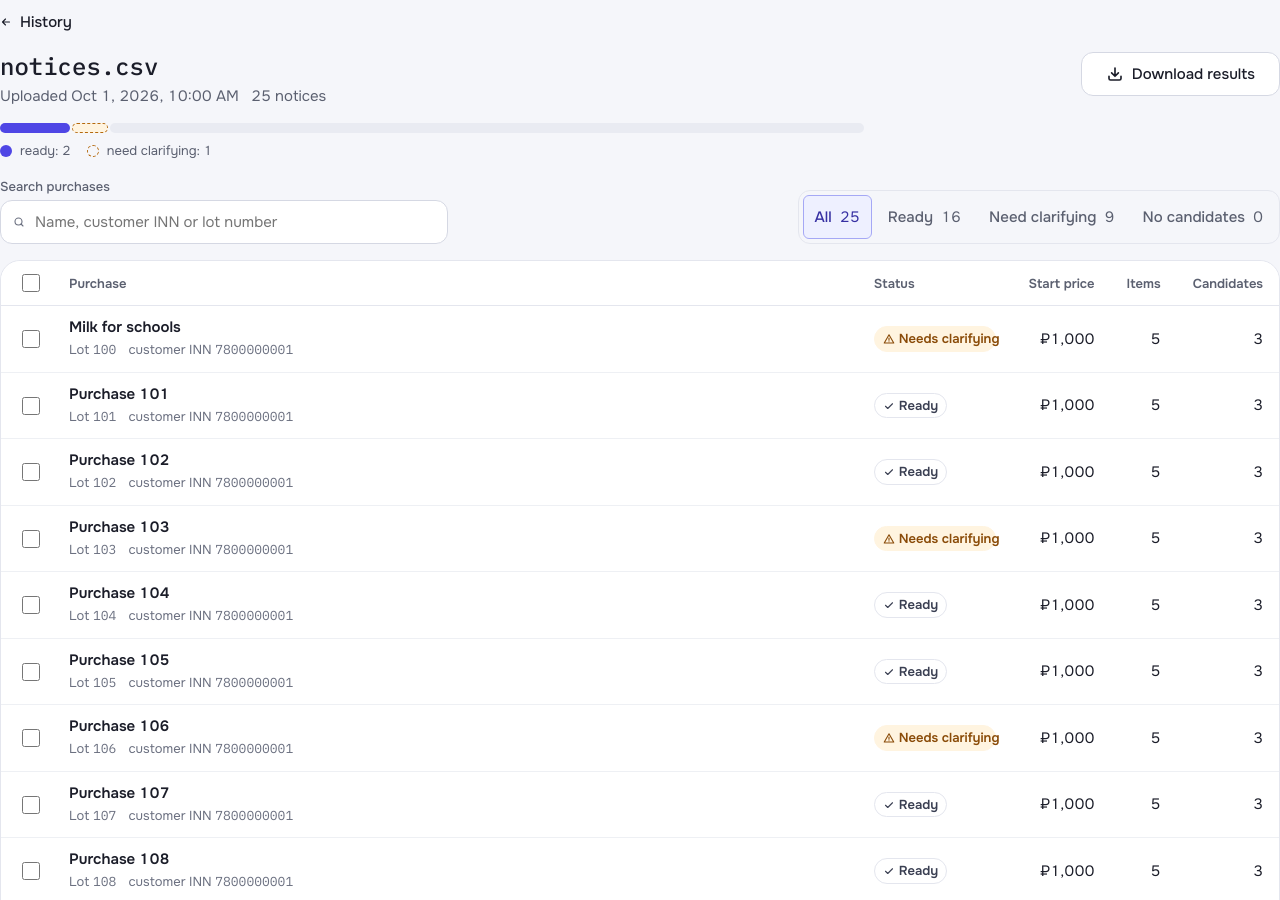
Test: the purchases of a file › clears the selection on request and opens the full export from the header
Click the checkbox named "Select lot 100" at (31, 339), box [22,330,40,348]
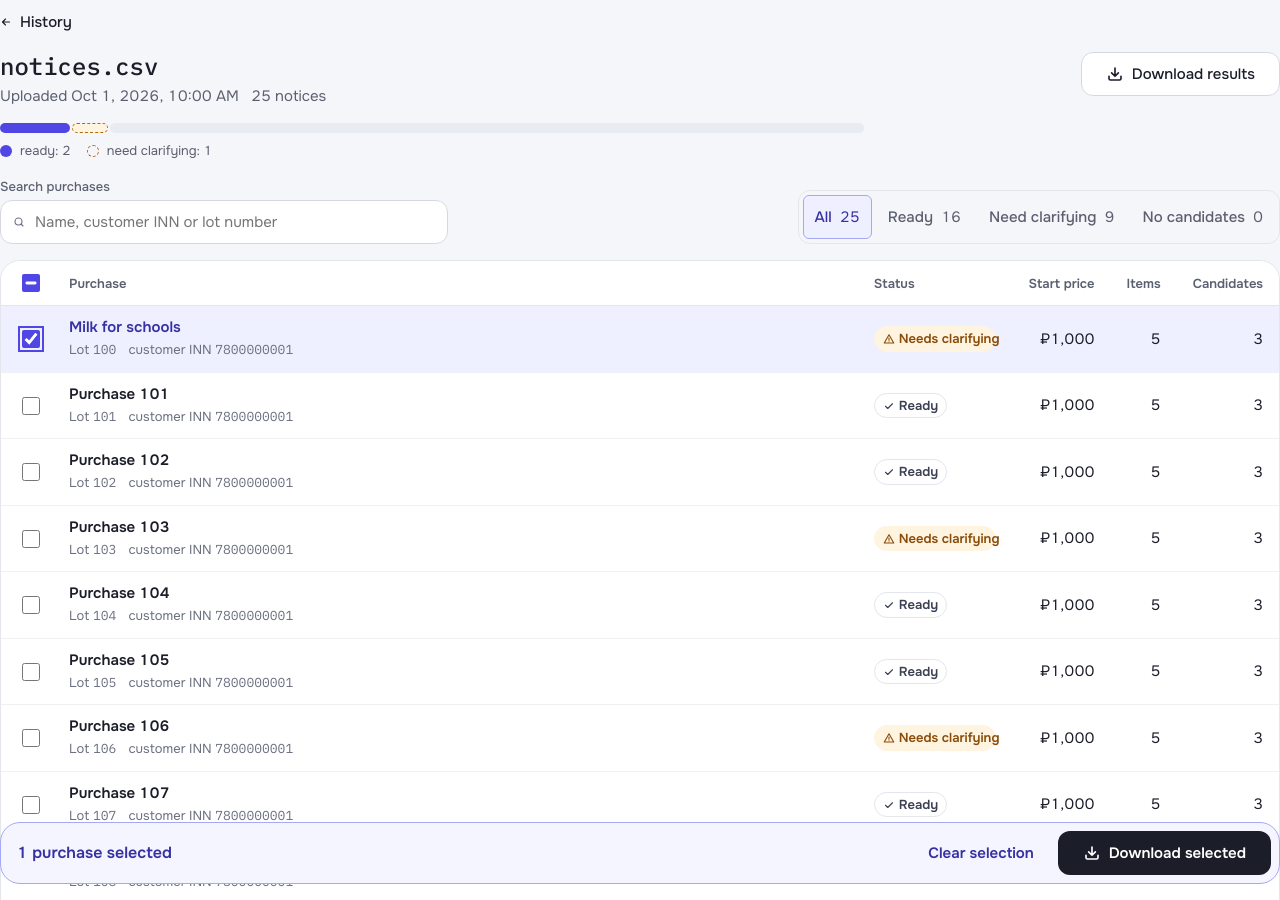
Click the button "Clear selection" at (981, 853), box [916,831,1046,875]
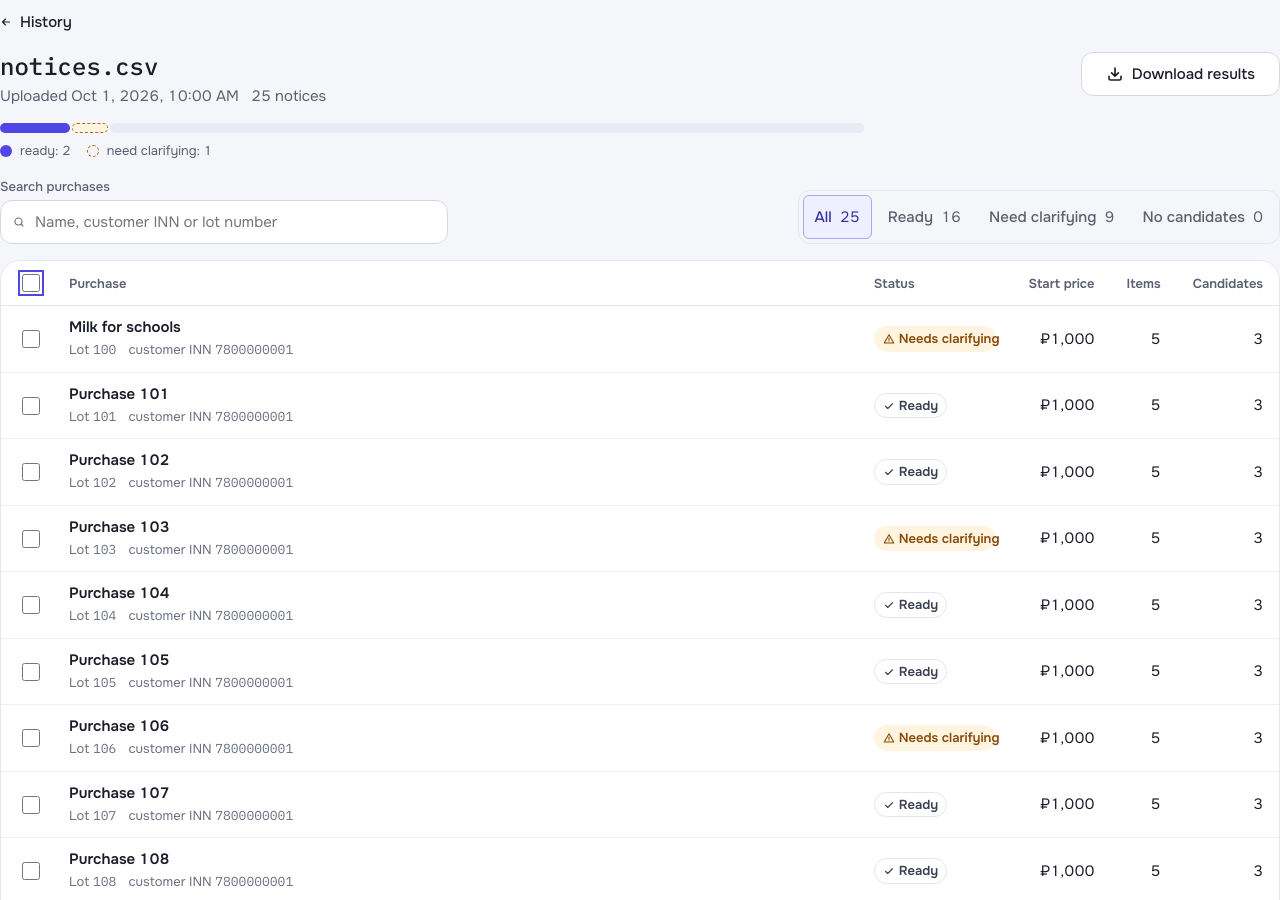
Click the button "Download results" at (1180, 74), box [1081,52,1279,96]
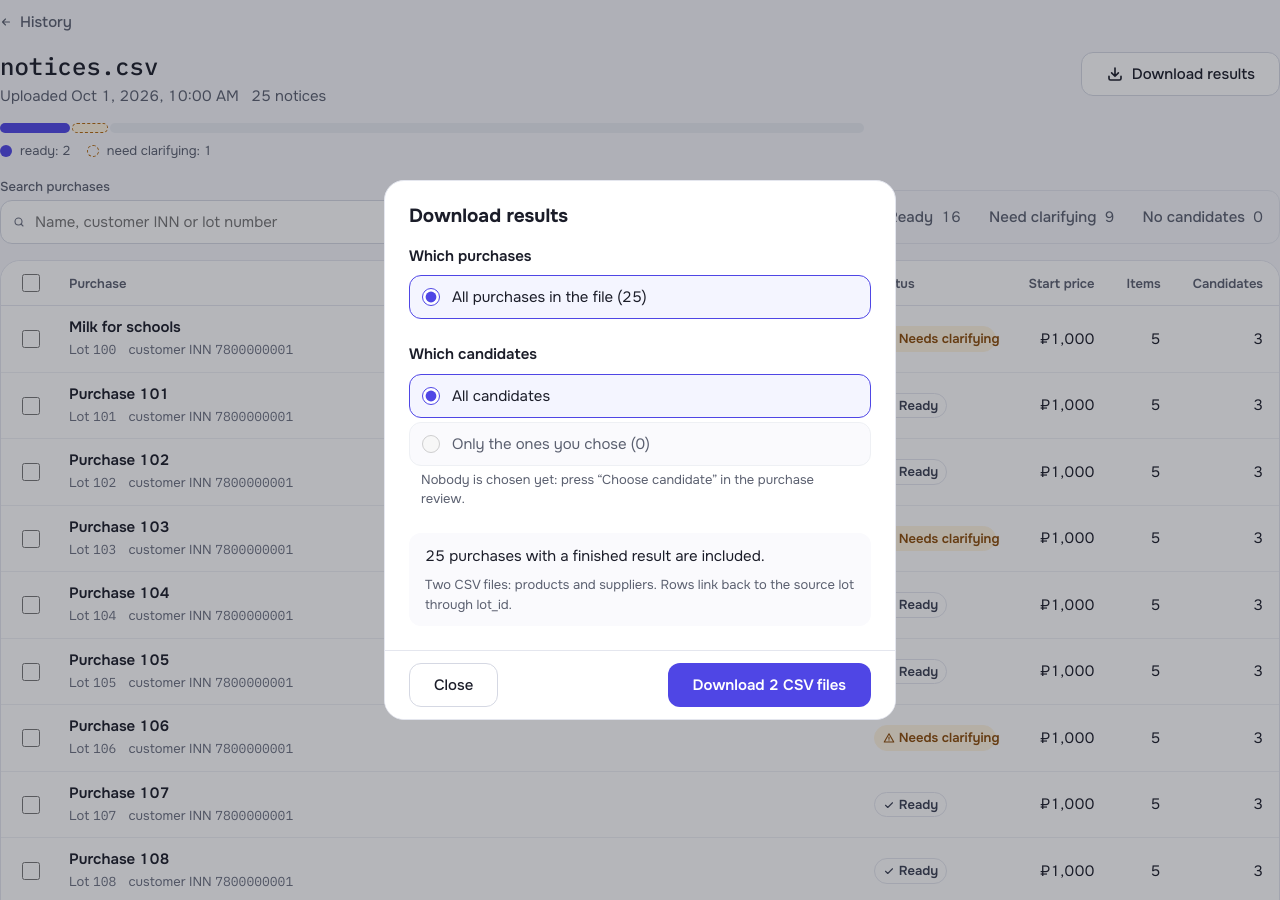
Expected: the radio button labelled "All purchases in the file (25)" is checked, [422,288,440,306]
